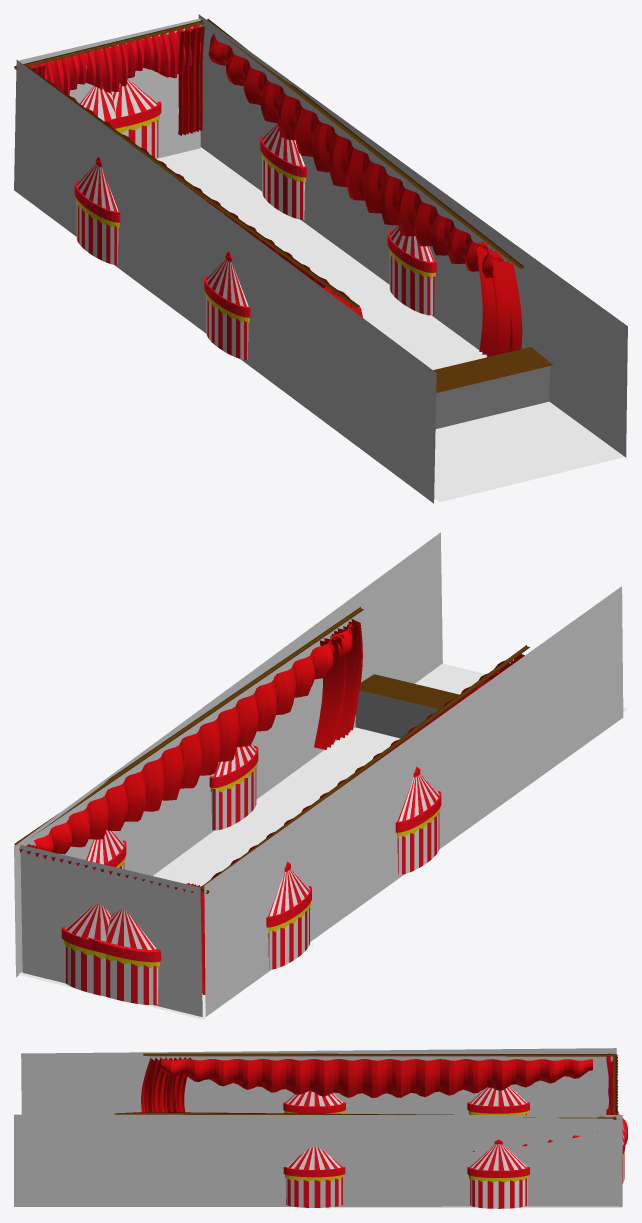
The model's file is Galeria.glb.
3 views of the same model, one above another, from view 1: azimuth 30°, elevation 25°; view 2: azimuth 150°, elevation 25°; view 3: azimuth 270°, elevation 25° (orthographic). The views are drawn at different scales.
Parts seen in each view (by area): view 1: Plane.002; view 2: Plane.002; view 3: Plane.002.
Part boxes in pixels (box(x1,y1,x2,y2)): Plane.002: box(14, 14, 627, 503); Plane.002: box(14, 532, 627, 1019); Plane.002: box(14, 1048, 627, 1208).
Size of the model in its own units: 11.3 by 7.1 by 40.35.
